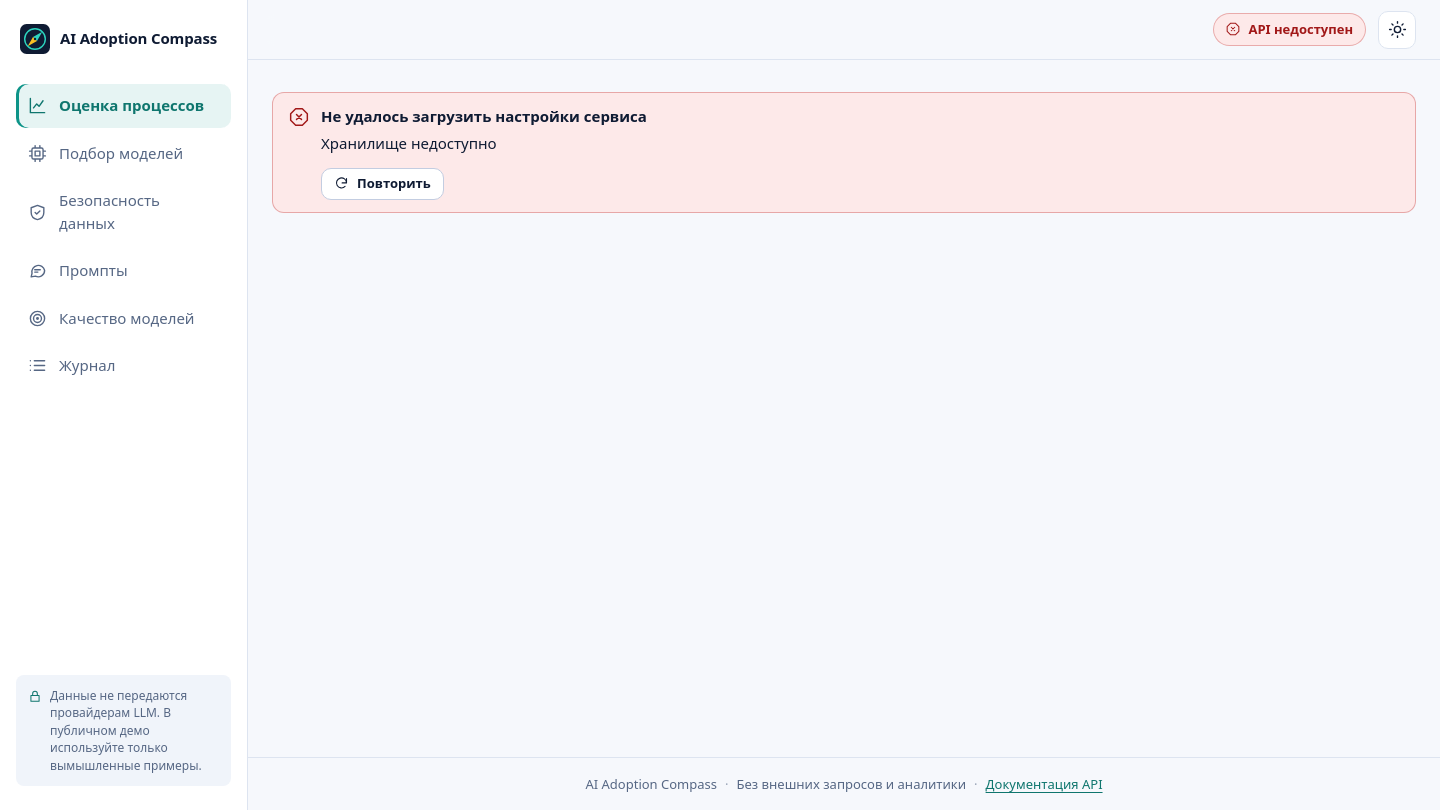
Scenario: App: шапка и подвал › если API недоступен, чип сообщает об этом, а страница — с кнопкой повтора
Check: the text "API недоступен" is shown, box [1213,13,1366,46]
Check: the text "Не удалось загрузить настройки сервиса" is shown, box [321,106,647,126]
Click the button "Повторить" at (382, 184), box [321,168,444,200]
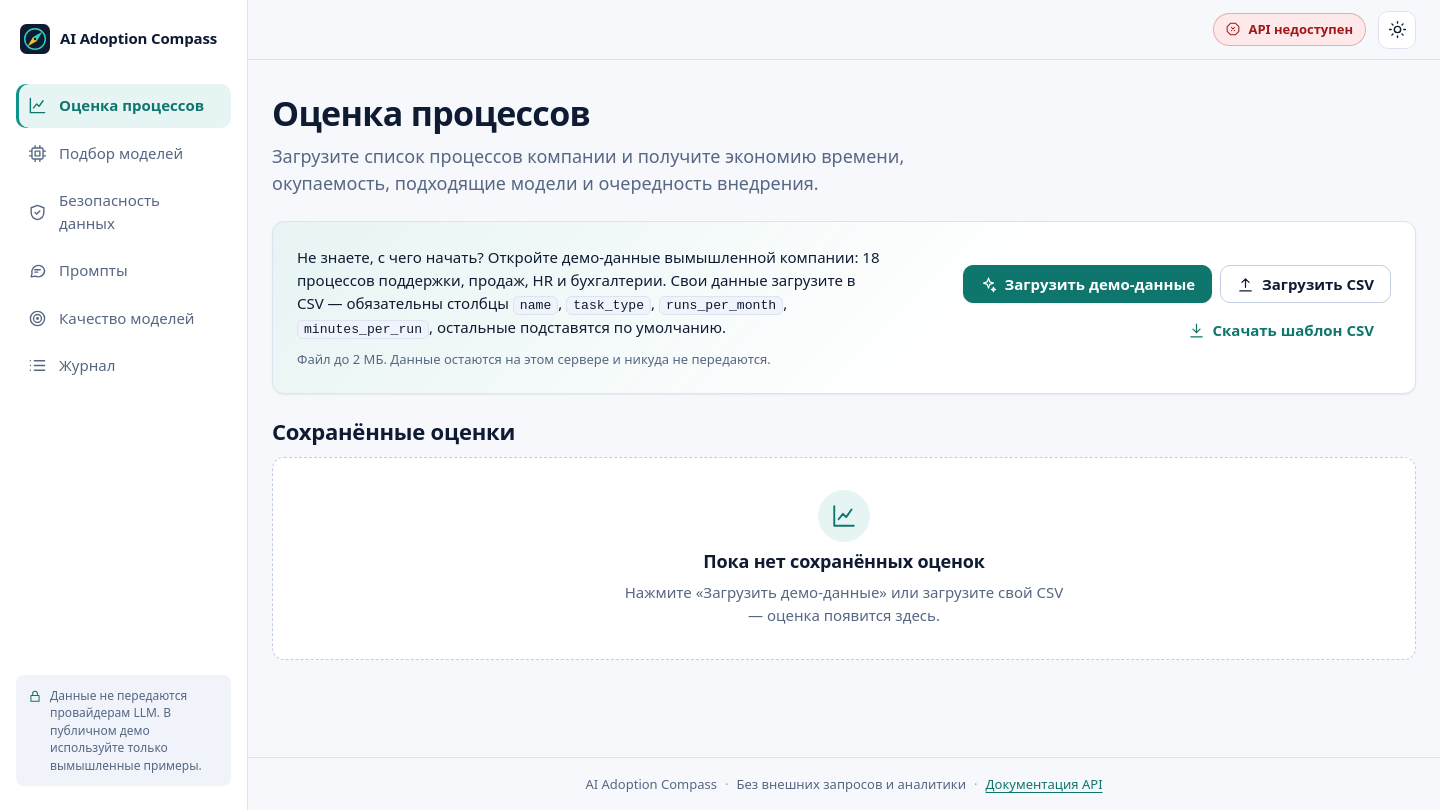
Check: the heading "Оценка процессов" is shown, box [272,90,590,136]
